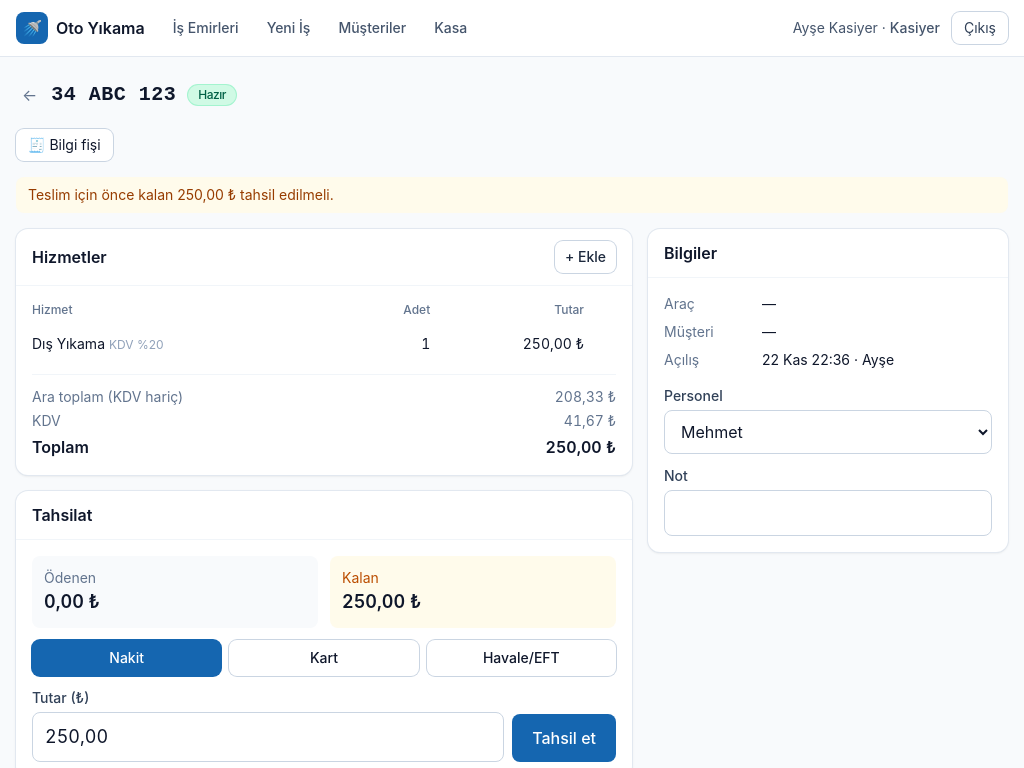
tahsilat › bakiyeyi aşan tutar sunucuya gönderilmez
Replace the text in the field labelled "Tutar (₺)" with "300" at [268, 737], box [32,712,504,762]
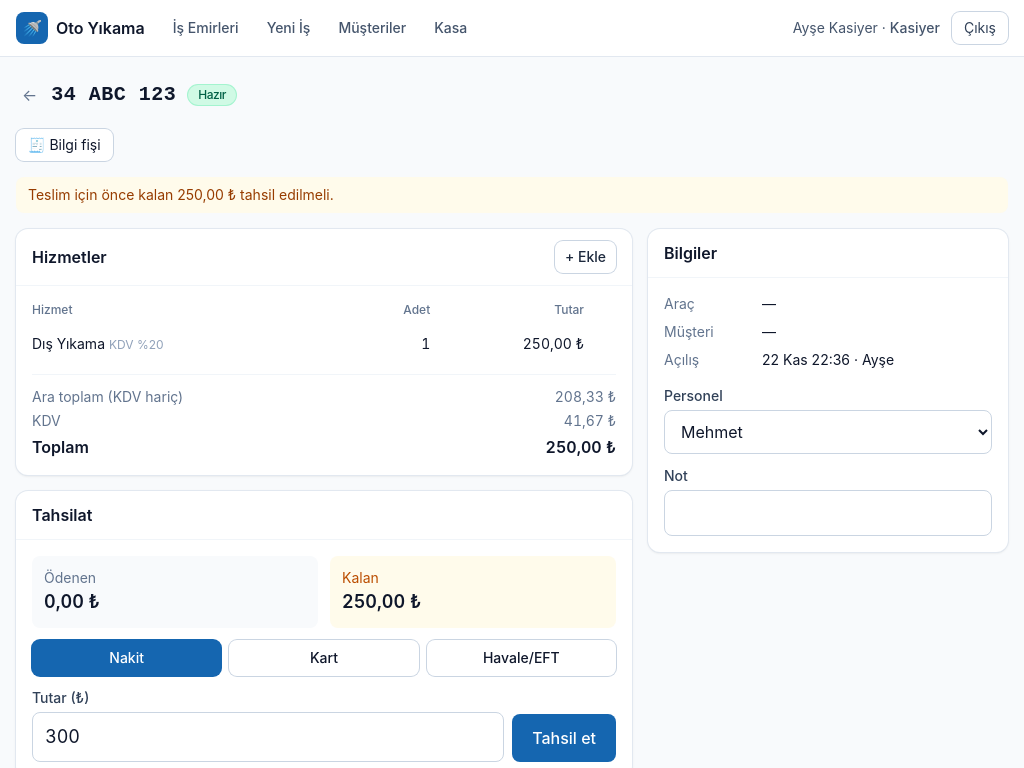
Click the button "Tahsil et" at [564, 738], box [512,714,616,762]
(page scrolled)
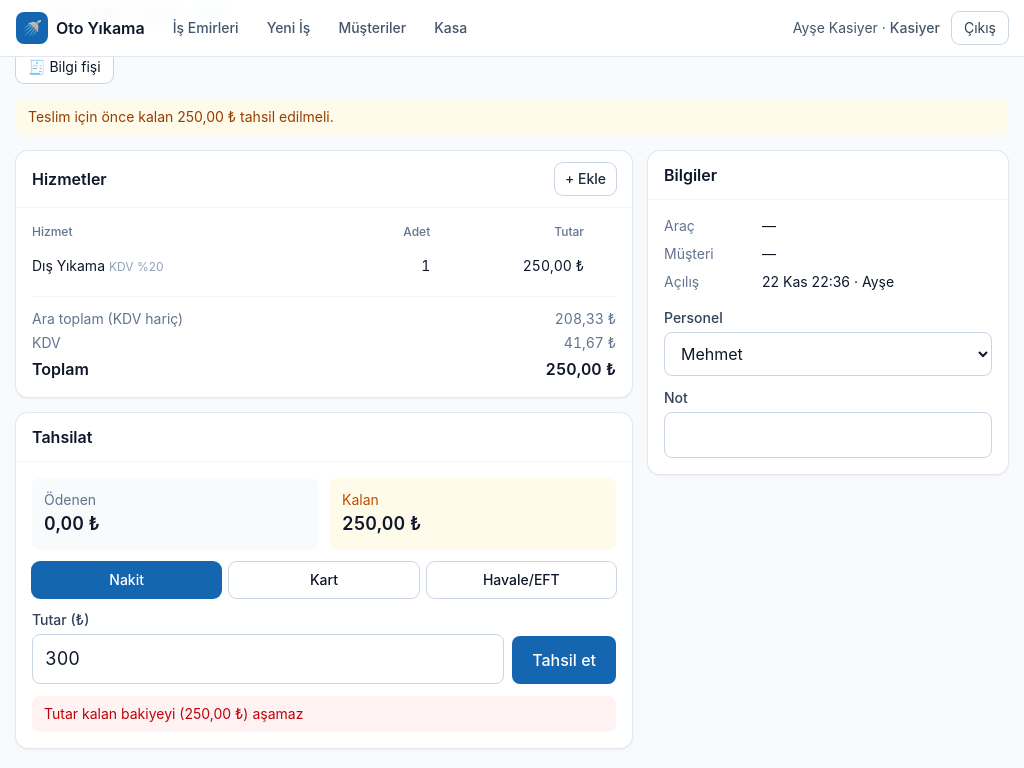
Result: the text "Tutar kalan bakiyeyi (250,00 ₺) aşamaz" is shown at [32,696,616,732]
